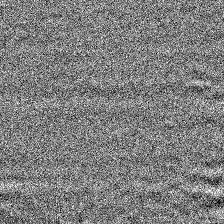cavities: (102, 25, 224, 157), (0, 45, 84, 158)
